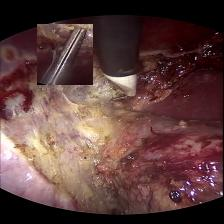Grasper: (38, 23, 93, 84)
Hook: (98, 73, 148, 104)
